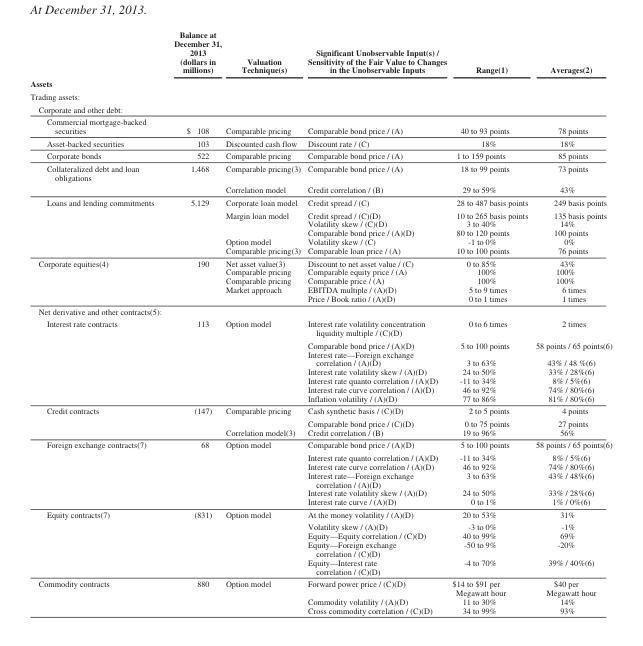table: (29, 29, 611, 614)
table column: (303, 29, 448, 614), (29, 29, 163, 614), (448, 29, 531, 614), (223, 29, 303, 614), (531, 29, 611, 614), (163, 29, 223, 614)
table column header: (29, 29, 611, 76)
table projected row header: (29, 76, 611, 89), (29, 89, 611, 102), (29, 102, 611, 115), (29, 304, 611, 317)
table row: (29, 29, 611, 76), (29, 161, 611, 183), (29, 115, 611, 136), (29, 317, 611, 338), (29, 557, 611, 577), (29, 470, 611, 488), (29, 539, 611, 557), (29, 349, 611, 366), (29, 76, 611, 89), (29, 89, 611, 102), (29, 102, 611, 115), (29, 136, 611, 149), (29, 195, 611, 208), (29, 304, 611, 317), (29, 507, 611, 520), (29, 149, 611, 161), (29, 183, 611, 195), (29, 404, 611, 416), (29, 438, 611, 450), (29, 208, 611, 219), (29, 245, 611, 256), (29, 256, 611, 267), (29, 293, 611, 304), (29, 338, 611, 349), (29, 393, 611, 404), (29, 416, 611, 427), (29, 427, 611, 438), (29, 450, 611, 461), (29, 520, 611, 531), (29, 497, 611, 507), (29, 577, 611, 587), (29, 219, 611, 228), (29, 236, 611, 245), (29, 267, 611, 276), (29, 284, 611, 293), (29, 366, 611, 375), (29, 375, 611, 384), (29, 384, 611, 393), (29, 461, 611, 470), (29, 488, 611, 497), (29, 587, 611, 596), (29, 596, 611, 605), (29, 605, 611, 614), (29, 228, 611, 236), (29, 276, 611, 284), (29, 531, 611, 539)
